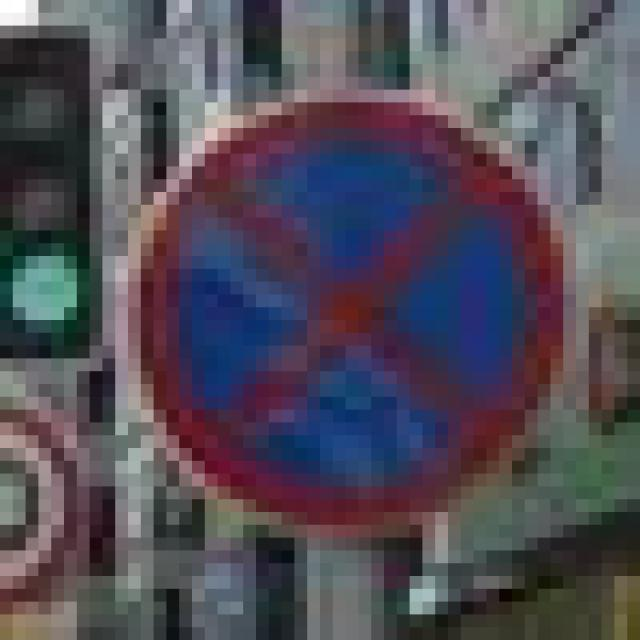no_parking: (115, 77, 550, 512)
